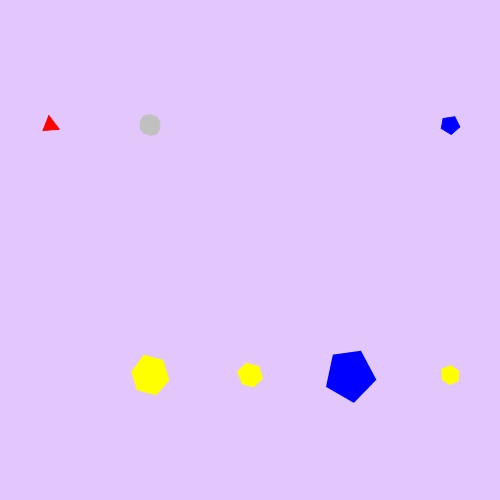decagon: (135, 111, 166, 140)
hexagon: (125, 354, 175, 396), (233, 360, 268, 390), (435, 362, 465, 388)
pentagon: (322, 347, 379, 404), (436, 111, 464, 139)
triangle: (38, 112, 63, 138)
